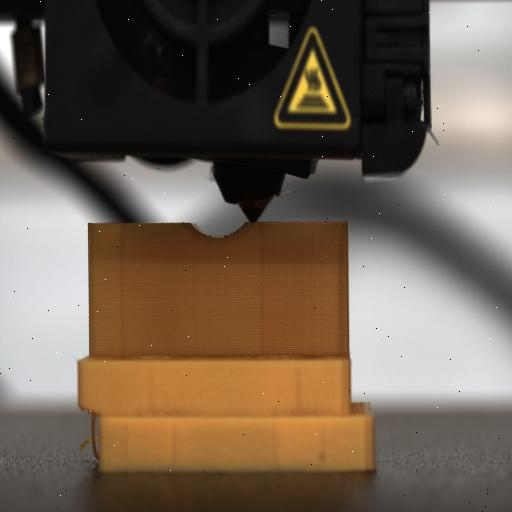layer_shift: (78, 395, 376, 425)
